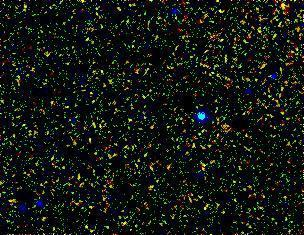star: (270, 0, 300, 23)
